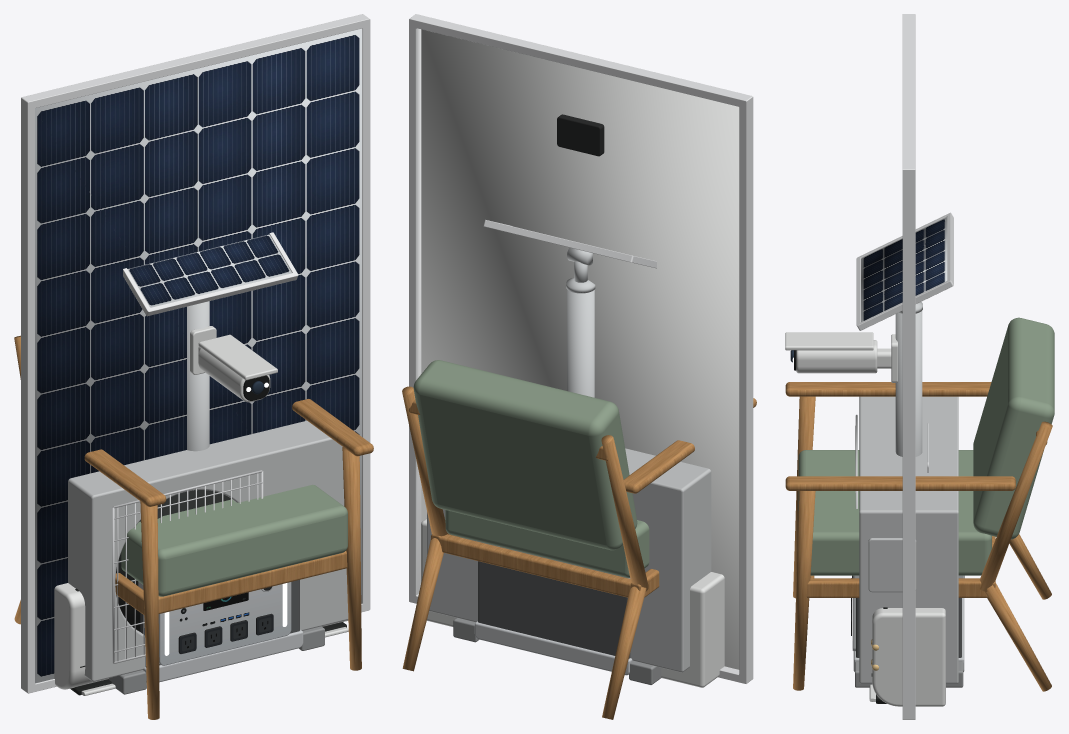
Rendered from showroom.v1.glb.
3 renders of one model, left to right at view 1: azimuth 30°, elevation 25°; view 2: azimuth 150°, elevation 25°; view 3: azimuth 270°, elevation 25°, orthographic. The views are drawn at different scales.
Parts seen in each view (by area): view 1: panel_glass, ac_out_body, panel_frame, chair_back, chair_arm, cam_panel_glass, station_plate, ac_in_body, cam_arm, ac_out_frame, station_base, cam_bolt (+4 smaller); view 2: panel_glass, chair_back, panel_frame, ac_out_body, chair_arm, station_body, ac_in_body, cam_bolt, station_base, panel_junction, cam_panel_frame, ac_out_foot; view 3: chair_back, ac_out_body, chair_arm, panel_frame, ac_in_body, cam_panel_glass, cam_arm, cam_bolt, cam_panel_frame, station_base, station_body.
Part boxes in pixels (box(x1,y1,x2,y2)): panel_glass: box(35, 28, 361, 683); ac_out_body: box(68, 420, 348, 681); panel_frame: box(21, 14, 370, 693); chair_back: box(121, 484, 347, 596); chair_arm: box(14, 335, 373, 719); cam_panel_glass: box(127, 234, 291, 307); station_plate: box(160, 582, 291, 665); ac_in_body: box(54, 583, 348, 695); cam_arm: box(190, 326, 277, 402); ac_out_frame: box(112, 470, 263, 663); station_base: box(138, 581, 303, 682); cam_bolt: box(187, 301, 209, 451); panel_glass: box(421, 29, 739, 669); chair_back: box(413, 360, 649, 577); panel_frame: box(409, 14, 753, 683); ac_out_body: box(427, 448, 711, 672); chair_arm: box(402, 386, 756, 719); station_body: box(478, 561, 630, 658); ac_in_body: box(421, 518, 724, 687); cam_bolt: box(566, 247, 595, 397); station_base: box(474, 540, 632, 675); panel_junction: box(557, 114, 604, 156); cam_panel_frame: box(483, 219, 656, 268); ac_out_foot: box(453, 618, 661, 684); chair_back: box(798, 317, 1054, 575); ac_out_body: box(859, 396, 958, 683); chair_arm: box(785, 382, 1052, 691); panel_frame: box(902, 14, 915, 719); ac_in_body: box(869, 608, 945, 706); cam_panel_glass: box(861, 217, 947, 321); cam_arm: box(785, 332, 897, 382); cam_bolt: box(895, 302, 922, 456); cam_panel_frame: box(856, 212, 953, 330); station_base: box(852, 575, 964, 671); station_body: box(856, 598, 961, 657).
Size of the model in its own units: 1 by 1.66 by 0.7314.
31 materials, 8 textured.
